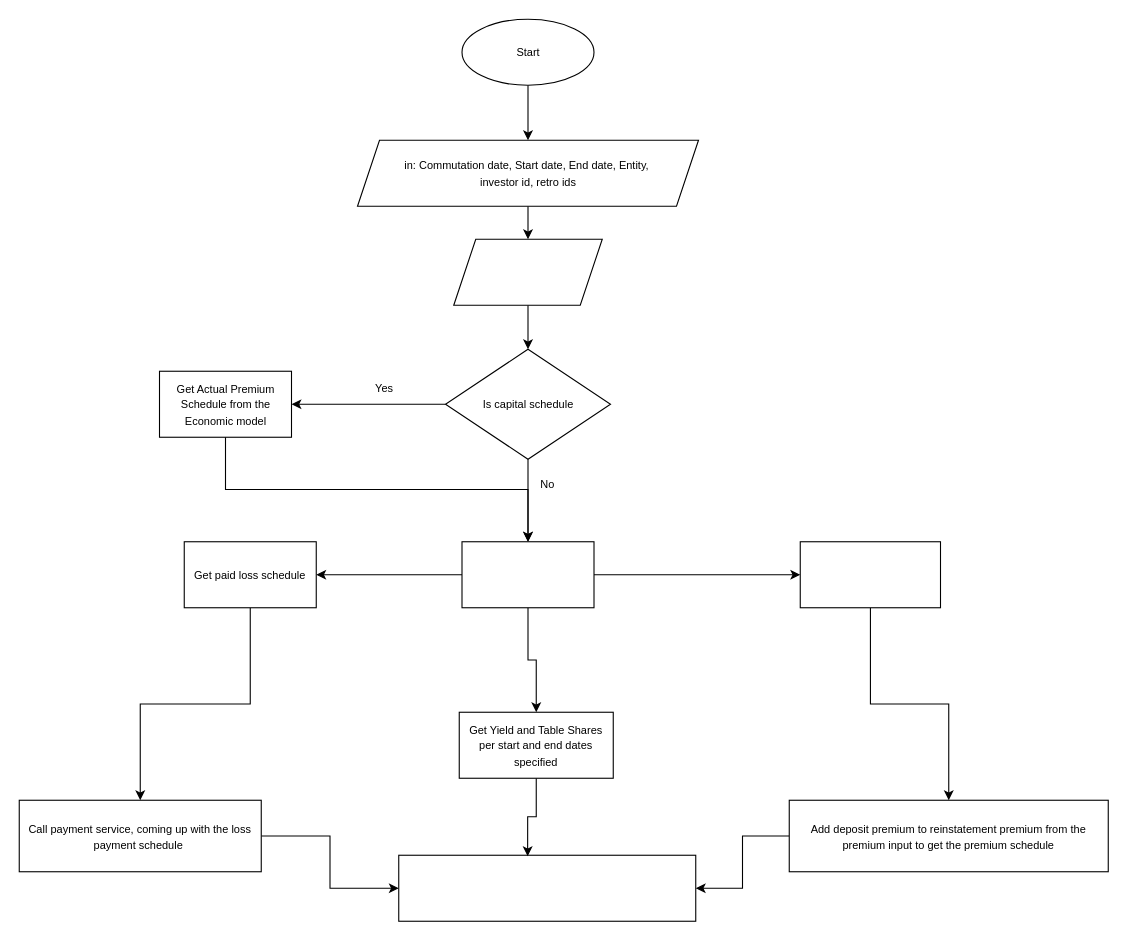
Some shapes in this 1128 by 941 pixel diagram are drawn without their labels. The box of each missing label's shape, as (x1, y1, x2, y2) in pixels:
Call Premium service to return deposit premium per day: (799, 541, 941, 608)
Get IRR Premium Inputs per investor id and the retro program id: (461, 541, 594, 608)
in: Capital Schedule: (453, 238, 602, 305)
Produce the cashflows and compute IRR: (398, 854, 696, 921)
